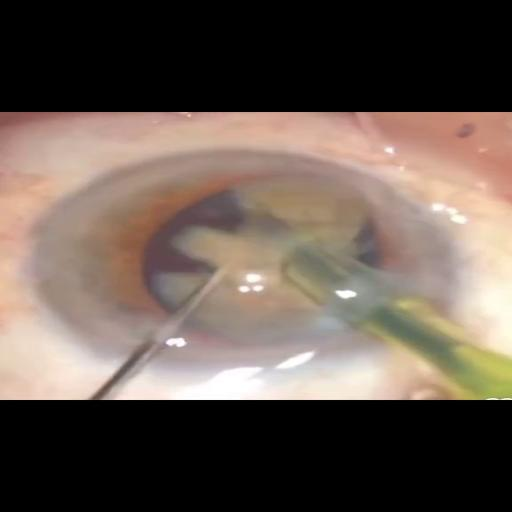catarata: (140, 181, 386, 332)
cornea: (47, 142, 453, 364)
pupil: (99, 174, 420, 341)
